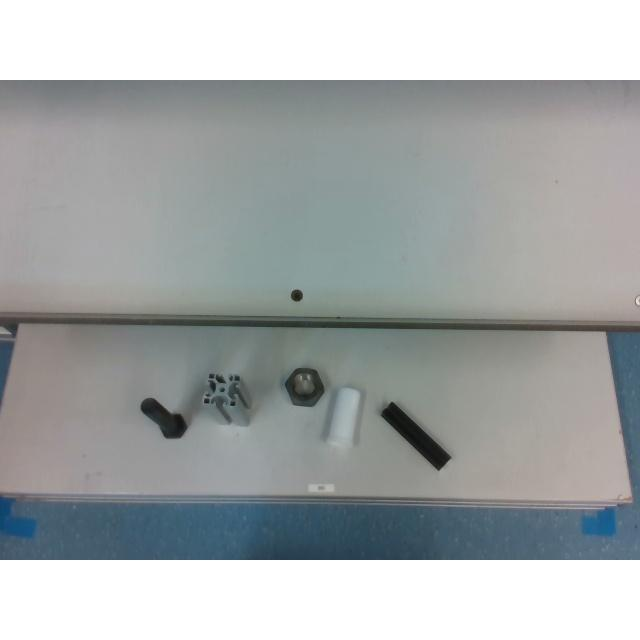F20_20_B: (381, 402, 451, 470)
M20_100: (140, 398, 188, 438)
M30: (284, 366, 324, 406)
S40_40_G: (202, 372, 250, 424)
Spacer: (326, 388, 362, 444)
